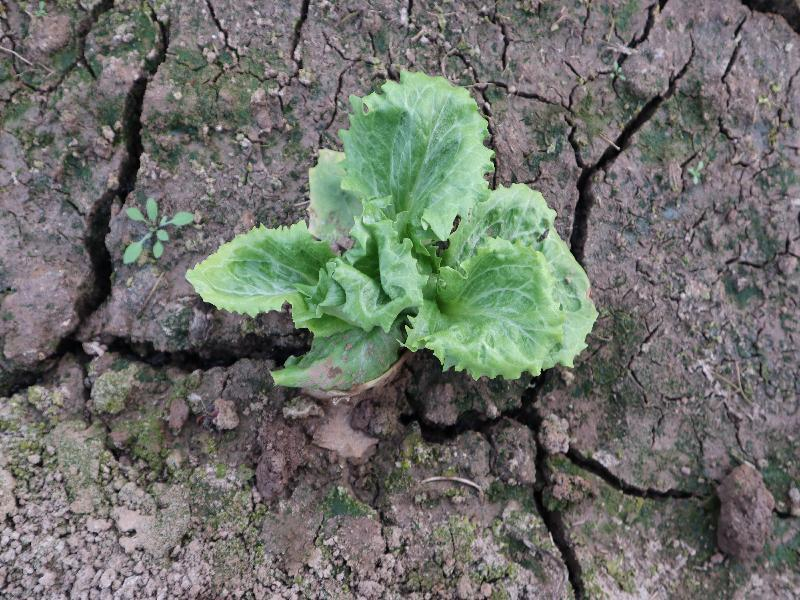lettuce: (183, 66, 600, 395)
